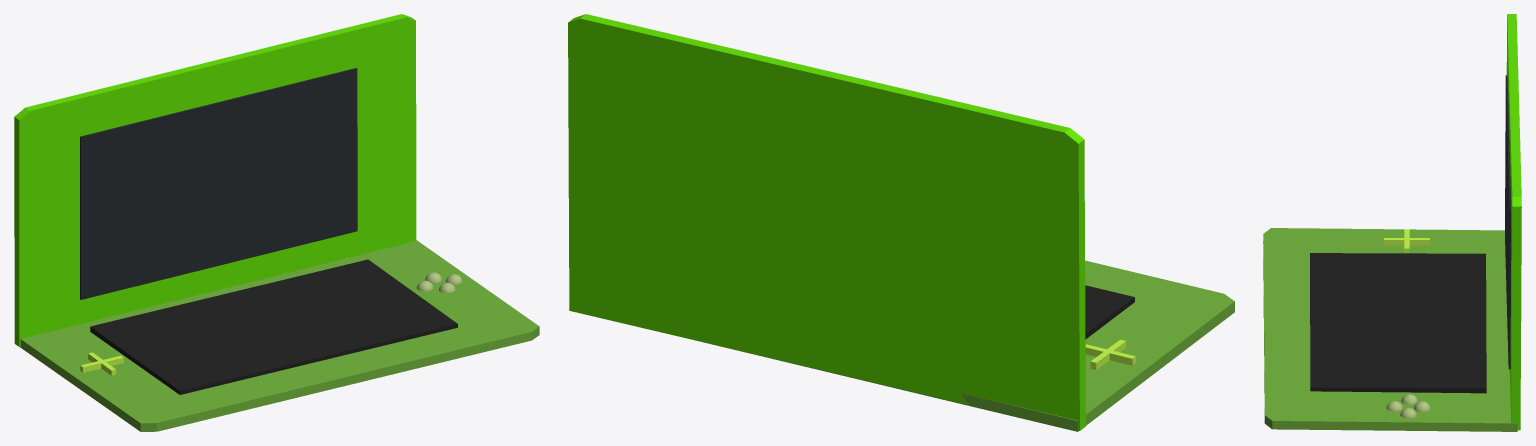
File: DS-lite.gltf
The picture shows the model from 3 angles, left to right: view 1: azimuth 30°, elevation 25°; view 2: azimuth 150°, elevation 25°; view 3: azimuth 270°, elevation 25°; orthographic projection. The views are drawn at different scales.
Parts seen in each view (by area): view 1: Cube, Cube.002, Cube.003, Cube.001, Cube.004; view 2: Cube, Cube.001, Cube.003, Cube.004; view 3: Cube.003, Cube.001, Cube, Cube.002, Cube.004.
Part boxes in pixels (x1,y1,x2,y2): Cube: [14, 14, 416, 347]; Cube.002: [80, 68, 357, 299]; Cube.003: [90, 259, 457, 394]; Cube.001: [20, 240, 539, 431]; Cube.004: [80, 352, 123, 375]; Cube: [568, 14, 1085, 430]; Cube.001: [713, 260, 1234, 431]; Cube.003: [1085, 285, 1134, 339]; Cube.004: [1085, 339, 1135, 370]; Cube.003: [1310, 253, 1486, 393]; Cube.001: [1263, 228, 1517, 431]; Cube: [1506, 14, 1521, 430]; Cube.002: [1505, 75, 1511, 369]; Cube.004: [1384, 229, 1429, 253].
Size of the model in its own units: 3.61 by 2.02 by 2.05.
